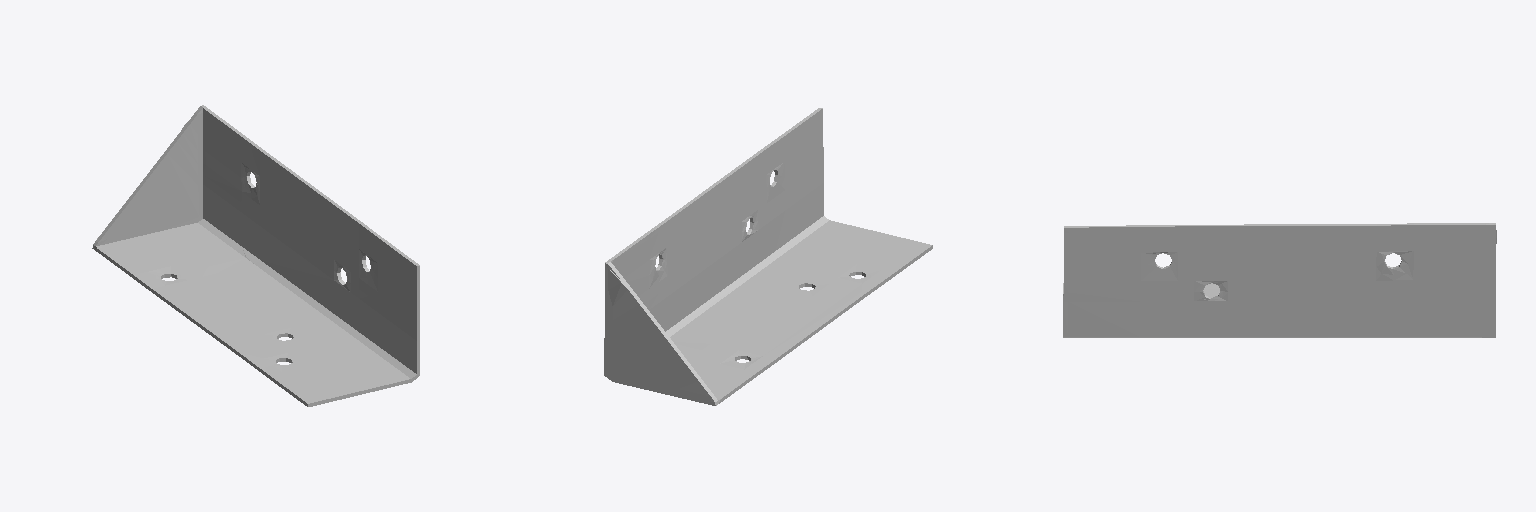
The model's file is 868227_componente n 152740.obj.
The picture shows the model from 3 angles: view 1: azimuth 30°, elevation 25°; view 2: azimuth 150°, elevation 25°; view 3: azimuth 270°, elevation 25°; orthographic projection.
Visible parts, largest first — view 1: Plane001; view 2: Plane001; view 3: Plane001.
Part boxes in pixels (x1,y1,x2,y2): Plane001: (92, 105, 419, 406); Plane001: (604, 108, 932, 405); Plane001: (1063, 223, 1496, 337).
Bounding box in the file's own units: 2.9 × 2.88 × 9.67.